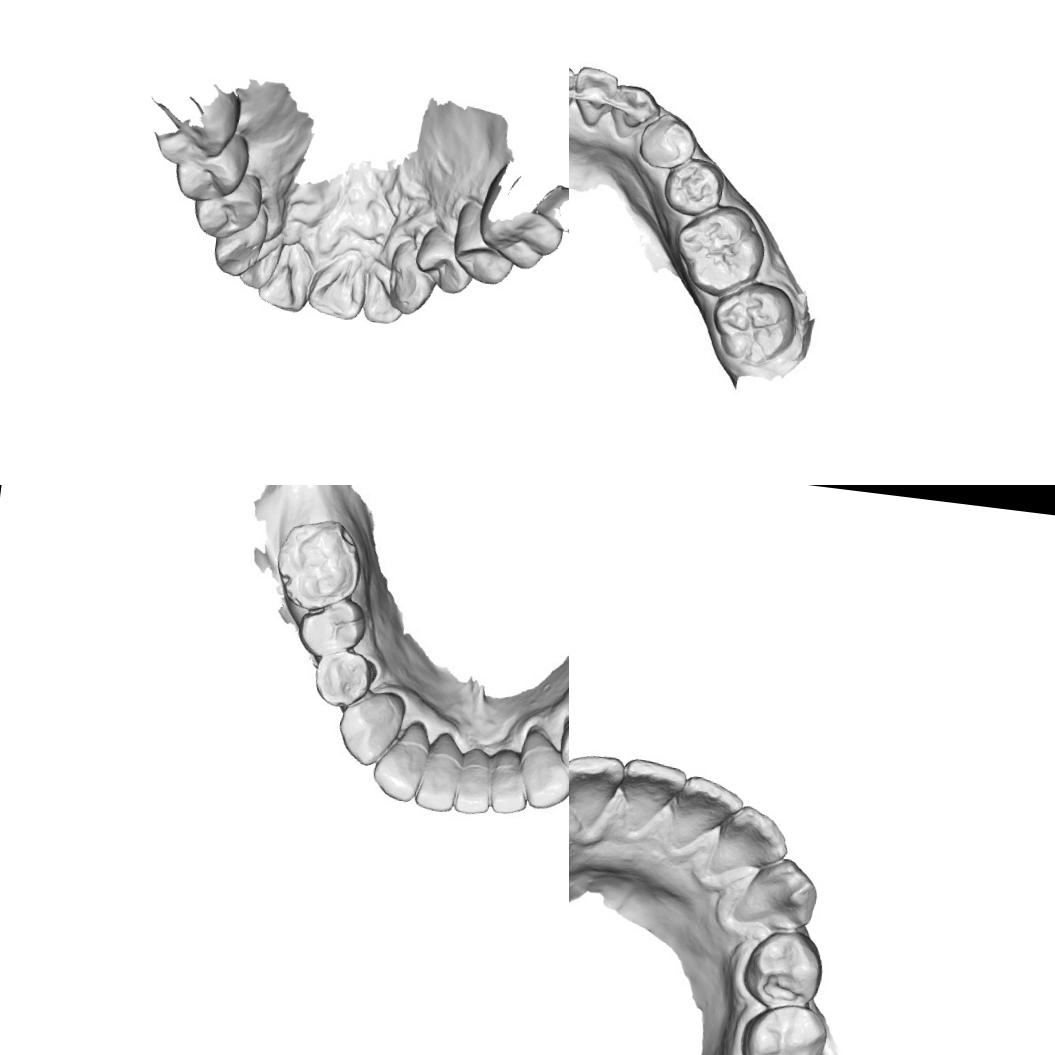canine: (729, 850, 821, 934), (334, 686, 408, 770), (512, 724, 569, 813), (382, 235, 443, 318), (210, 200, 270, 280), (608, 82, 662, 144)
incisor: (706, 800, 794, 882), (614, 754, 688, 838), (672, 770, 746, 851), (569, 749, 627, 836), (304, 248, 370, 323), (255, 238, 318, 314), (410, 742, 469, 817), (370, 728, 427, 802), (450, 748, 499, 820), (569, 63, 620, 132), (486, 746, 532, 818), (359, 269, 408, 328), (238, 238, 284, 291)
molar: (668, 197, 771, 304), (266, 516, 374, 616), (705, 276, 801, 370)
premolar: (740, 924, 826, 1014), (448, 198, 522, 289), (171, 128, 252, 208), (190, 167, 265, 244), (292, 593, 372, 663), (737, 997, 833, 1055), (411, 222, 479, 297), (308, 645, 380, 712), (659, 154, 728, 220), (633, 109, 700, 174), (553, 710, 569, 783)
